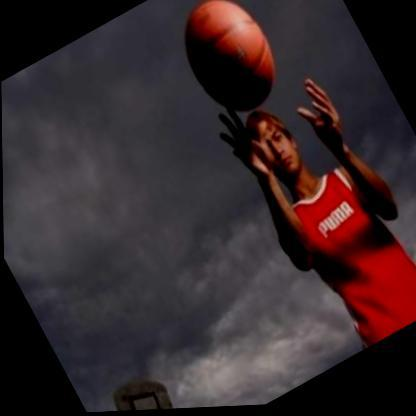basketball: (162, 0, 299, 132)
